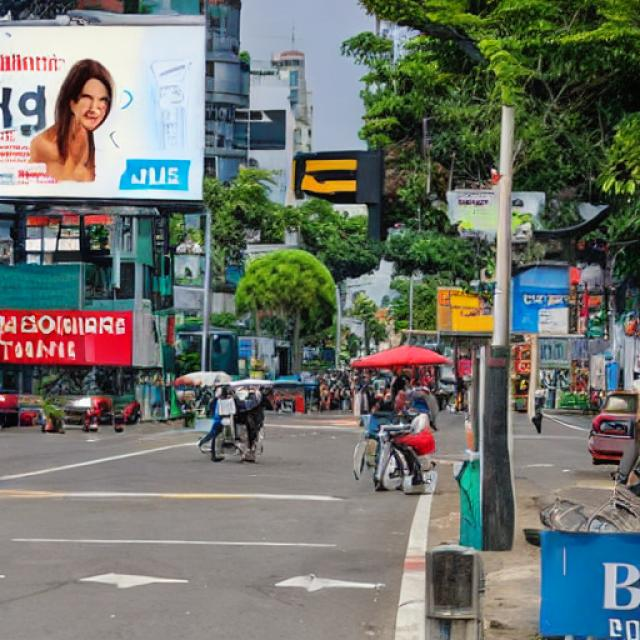Billboard: (0, 17, 204, 204)
